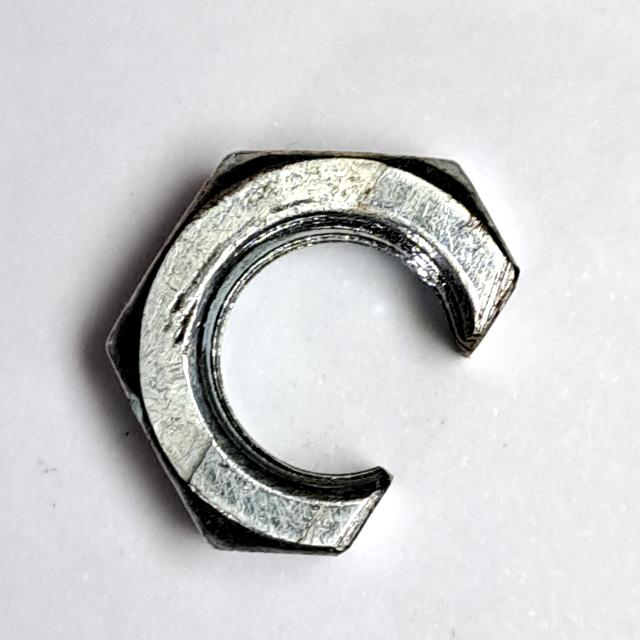Fracture: (90, 138, 532, 567)
